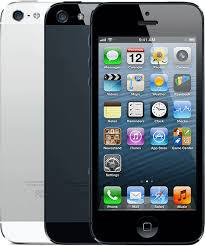iphone: (89, 1, 203, 246)
iphone5: (90, 1, 205, 244)
